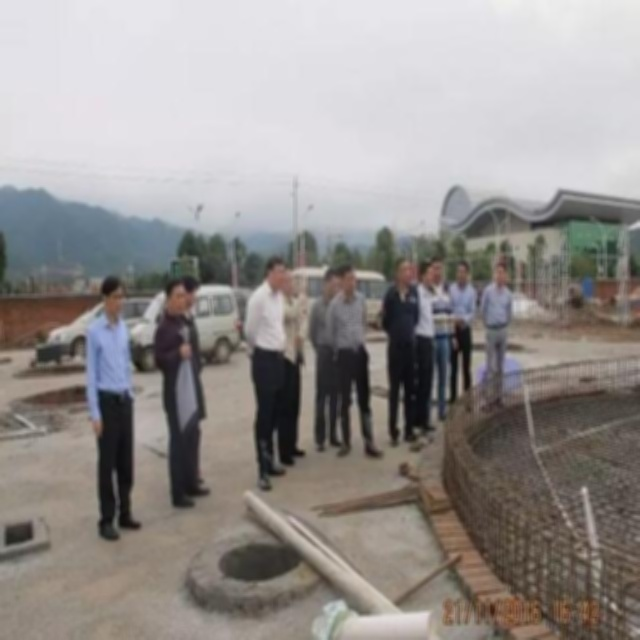Sin_Casco_Mascarrilla: (100, 272, 125, 315), (392, 257, 415, 287), (267, 254, 285, 291), (340, 261, 357, 293)
